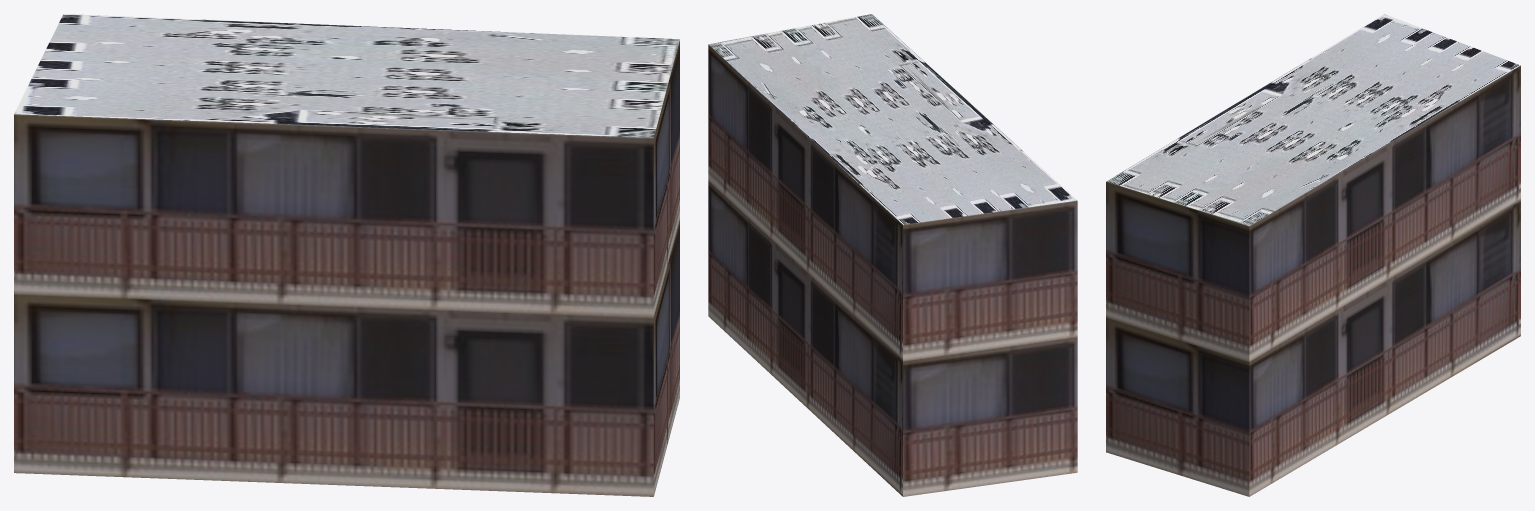
The model's file is ResTex__1141.fbx.
3 views of the same model, side by side, from view 1: azimuth 30°, elevation 25°; view 2: azimuth 150°, elevation 25°; view 3: azimuth 270°, elevation 25° (orthographic). The views are drawn at different scales.
Parts seen in each view (by area): view 1: CityEngineMaterial_6_m, CityEngineMaterial_4_m; view 2: CityEngineMaterial_6_m, CityEngineMaterial_4_m; view 3: CityEngineMaterial_6_m, CityEngineMaterial_4_m.
Boxes of the visible parts, bbox=[...] form: CityEngineMaterial_6_m: bbox=[14, 40, 679, 496]; CityEngineMaterial_4_m: bbox=[14, 14, 679, 137]; CityEngineMaterial_6_m: bbox=[708, 44, 1077, 496]; CityEngineMaterial_4_m: bbox=[709, 14, 1076, 224]; CityEngineMaterial_6_m: bbox=[1106, 65, 1520, 496]; CityEngineMaterial_4_m: bbox=[1106, 14, 1520, 226].
Size of the model in its own units: 10.09 by 6 by 8.33.
Materials: 2 (2 with a texture image).
